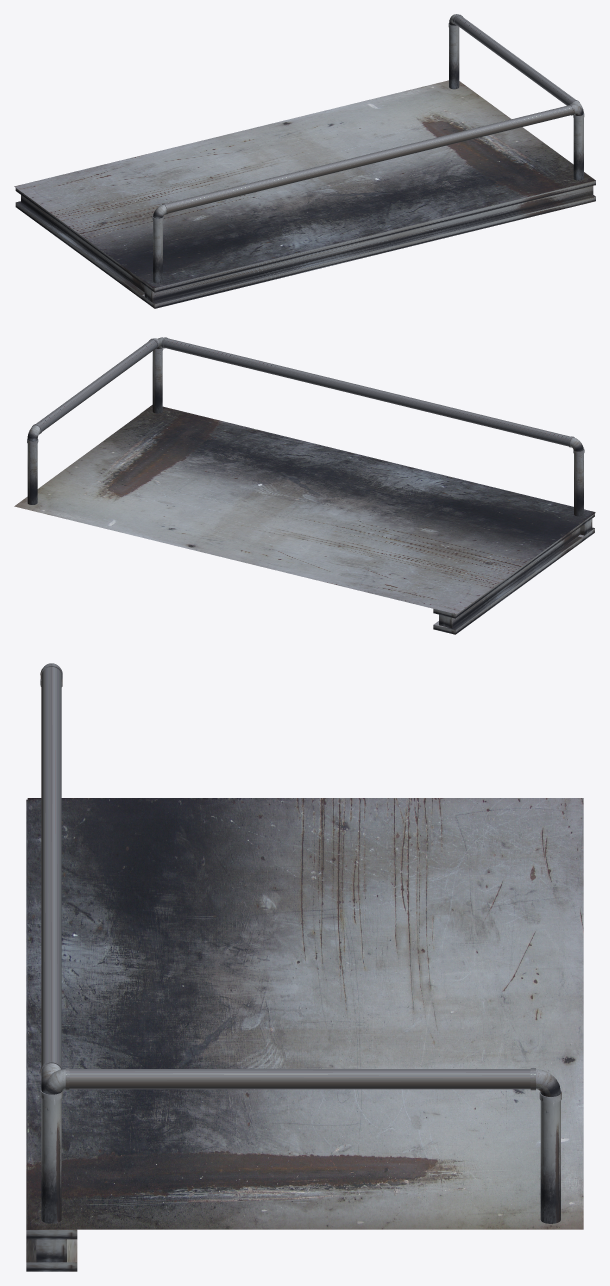
Rendered from catwalk_end.FBX.
The picture shows the model from 3 angles, top to bottom: view 1: azimuth 30°, elevation 25°; view 2: azimuth 150°, elevation 25°; view 3: azimuth 270°, elevation 25°; orthographic projection. The views are drawn at different scales.
Visible parts, largest first — view 1: Plane003, Cylinder019, Box016, Box018, Box017, Cylinder025, Box013, Box014, Cylinder023, Cylinder018, Cylinder022, Box015; view 2: Plane003, Cylinder019, Cylinder025, Box013, Box014, Cylinder023, Cylinder018, Box015, Cylinder022, Box017; view 3: Plane003, Cylinder025, Cylinder019, Cylinder023, Cylinder020, Box017, Box018.
Part boxes in pixels (<box>): Plane003: <box>14,80,594,288</box>; Cylinder019: <box>162,104,582,214</box>; Box016: <box>144,186,593,302</box>; Box018: <box>142,195,595,308</box>; Box017: <box>142,172,595,292</box>; Cylinder025: <box>449,14,579,105</box>; Box013: <box>15,201,144,299</box>; Box014: <box>21,195,144,292</box>; Cylinder023: <box>448,23,459,89</box>; Cylinder018: <box>152,215,163,283</box>; Cylinder022: <box>573,113,584,180</box>; Box015: <box>15,188,141,282</box>; Plane003: <box>14,405,595,614</box>; Cylinder019: <box>158,337,574,447</box>; Cylinder025: <box>27,338,158,441</box>; Box013: <box>433,536,581,634</box>; Box014: <box>439,527,580,628</box>; Cylinder023: <box>27,438,38,504</box>; Cylinder018: <box>573,449,584,516</box>; Box015: <box>433,523,581,618</box>; Cylinder022: <box>153,348,163,413</box>; Box017: <box>140,405,594,525</box>; Plane003: <box>27,798,583,1229</box>; Cylinder025: <box>65,1068,560,1096</box>; Cylinder019: <box>40,664,62,1091</box>; Cylinder023: <box>539,1091,561,1223</box>; Cylinder020: <box>41,1098,61,1223</box>; Box017: <box>26,799,77,1239</box>; Box018: <box>26,1239,77,1271</box>.
Bounding box in the file's own units: 10.03 × 2.08 × 5.47.
1 material, 1 textured.
